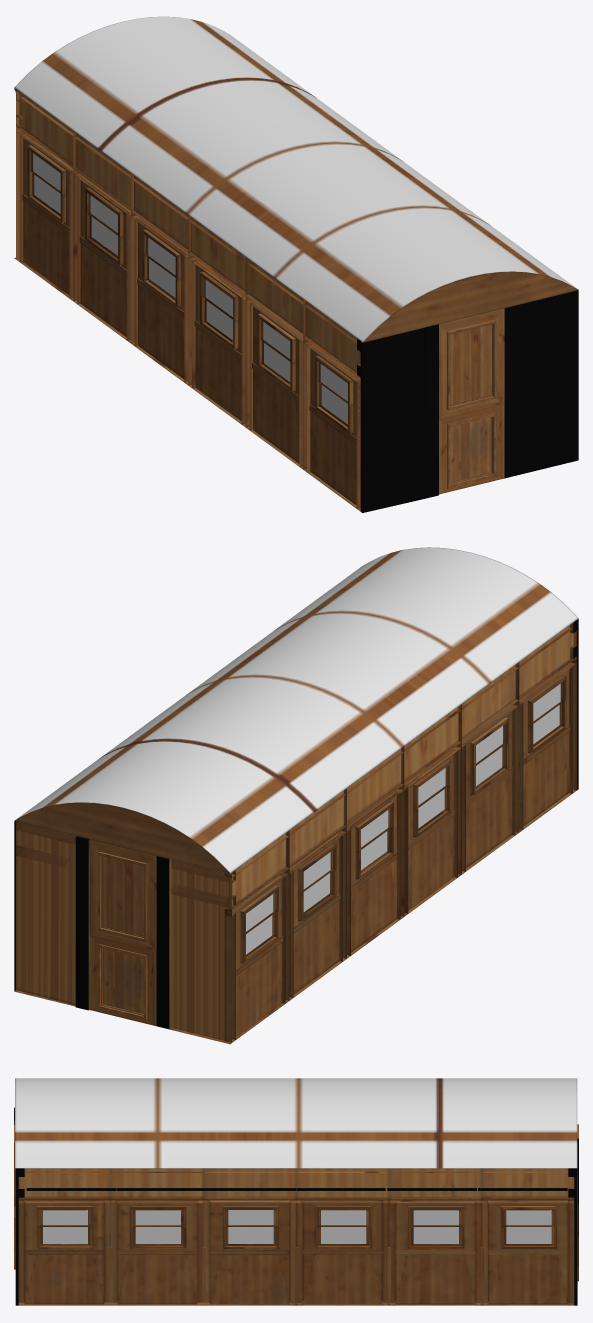
The model's file is train-original.fbx.
3 renders of one model, top to bottom at view 1: azimuth 30°, elevation 25°; view 2: azimuth 150°, elevation 25°; view 3: azimuth 270°, elevation 25°, orthographic. The views are drawn at different scales.
Visible parts, largest first — view 1: 天井, 窓6, 2, ドア2.001, 1; view 2: 天井, 窓6, 1, ドア2; view 3: 窓6.001, 天井, 床, 荷台支え3, 1, 2.
Boxes of the visible parts, x1,y1,x2,y2 form: 天井: (14, 16, 578, 342); 窓6: (16, 94, 360, 508); 2: (357, 290, 578, 512); ドア2.001: (438, 308, 504, 493); 1: (14, 88, 22, 259); 天井: (15, 547, 578, 873); 窓6: (224, 623, 576, 1042); 1: (14, 820, 235, 1042); ドア2: (90, 839, 156, 1025); 窓6.001: (18, 1168, 574, 1305); 天井: (15, 1078, 577, 1168); 床: (18, 1200, 577, 1305); 荷台支え3: (26, 1188, 567, 1190); 1: (568, 1138, 578, 1305); 2: (14, 1107, 24, 1305).
Bounding box in the file's own units: 8.01 × 7.63 × 22.45.
4 materials, 1 textured.
